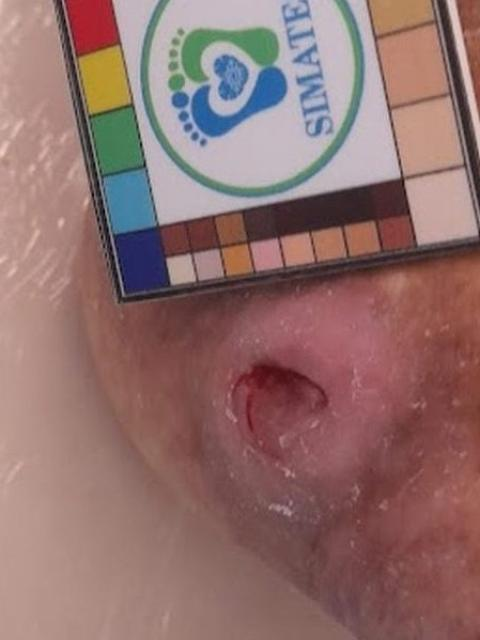wound: (230, 359, 332, 473)
